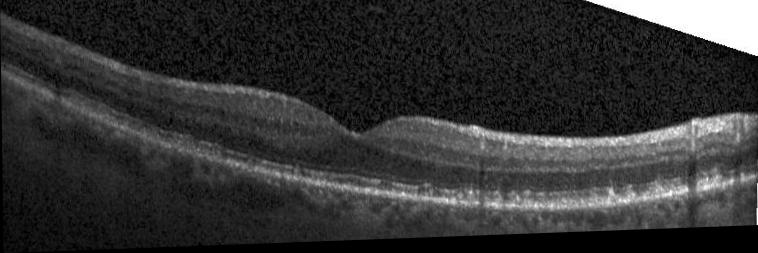retinal_drusen: (697, 181, 725, 193), (649, 190, 673, 203), (417, 190, 434, 203), (179, 139, 193, 151), (624, 194, 636, 207), (209, 146, 221, 157), (607, 196, 617, 209), (292, 167, 300, 181), (511, 199, 521, 209), (245, 160, 255, 170), (464, 195, 474, 204)
